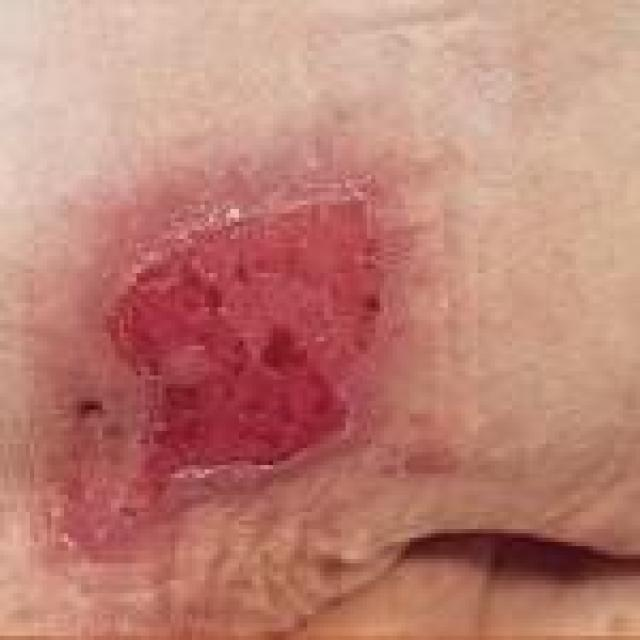stage-2: (105, 199, 385, 525)
